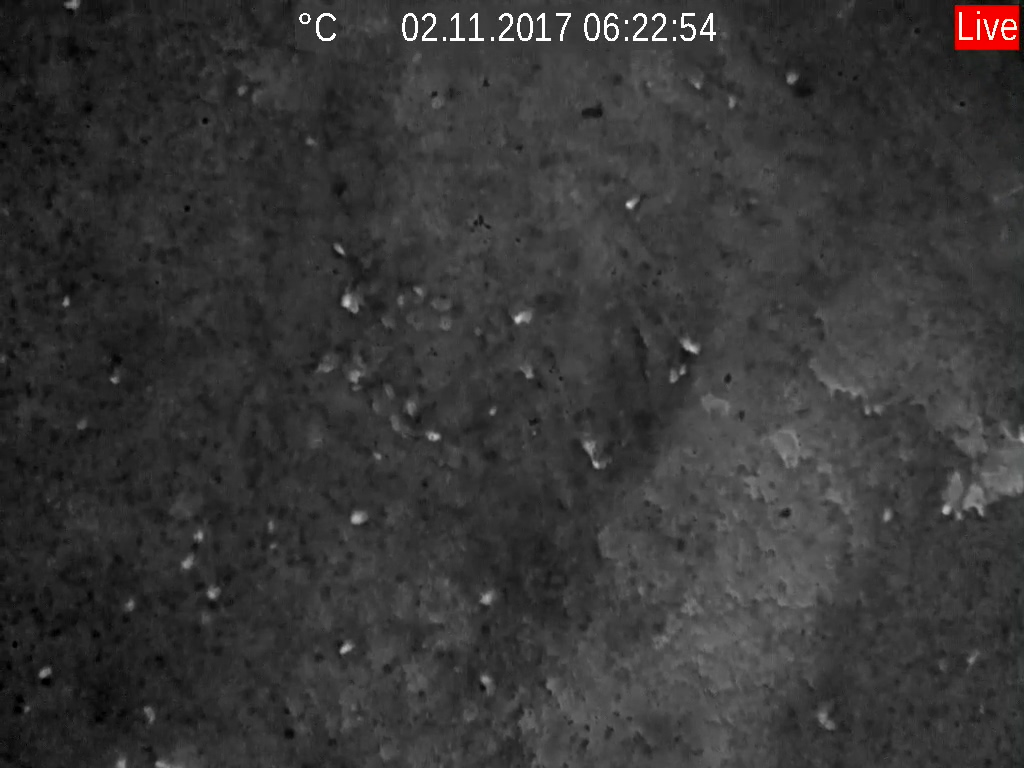warren: (936, 471, 969, 522), (578, 433, 614, 477), (674, 328, 706, 359), (507, 304, 538, 334), (344, 505, 376, 529), (331, 632, 359, 658), (622, 187, 643, 217), (340, 289, 361, 316), (177, 549, 199, 572), (685, 67, 707, 90), (328, 239, 349, 258), (36, 662, 54, 682)
